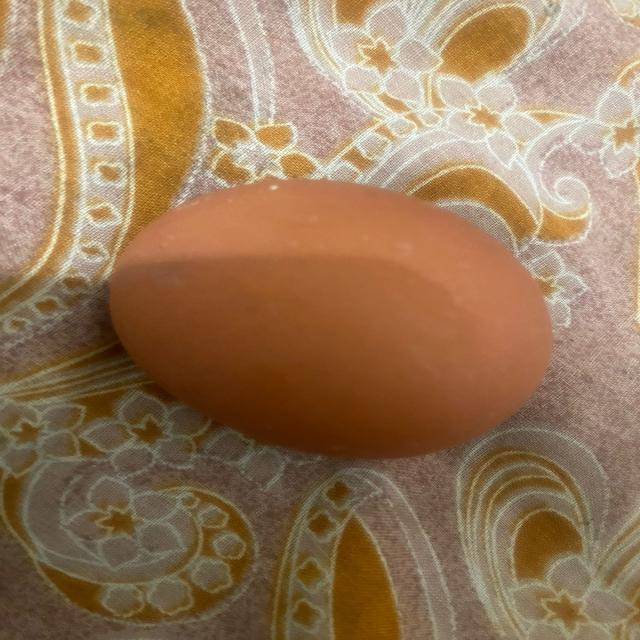Egg: (99, 168, 557, 466)
